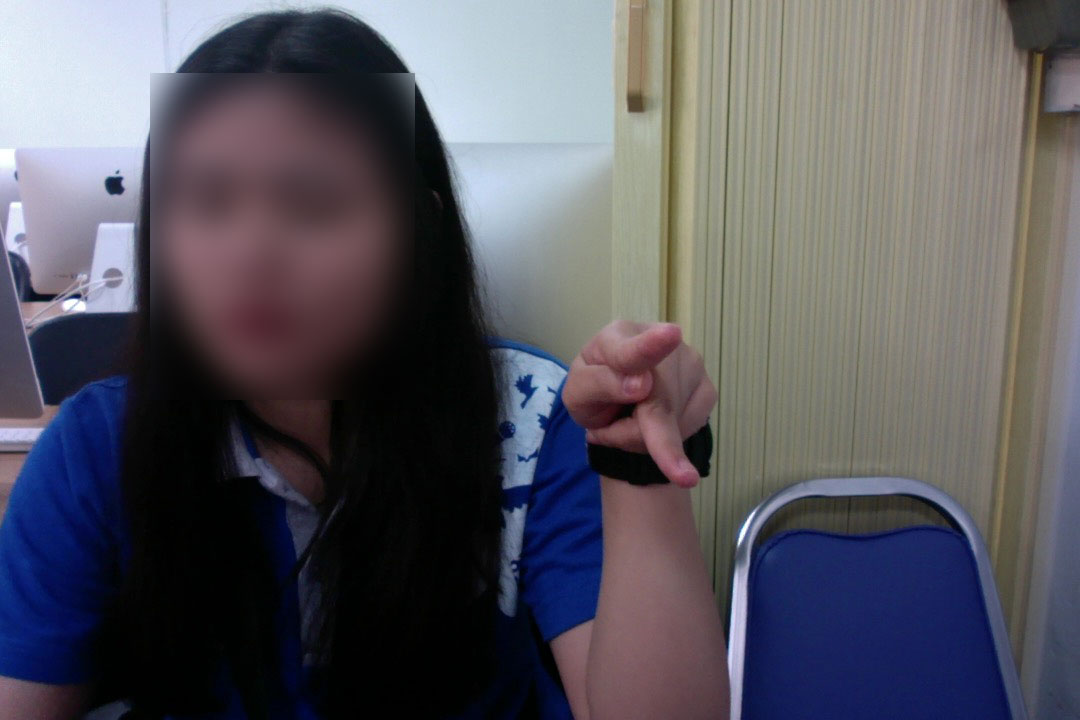por: (559, 299, 727, 495)
